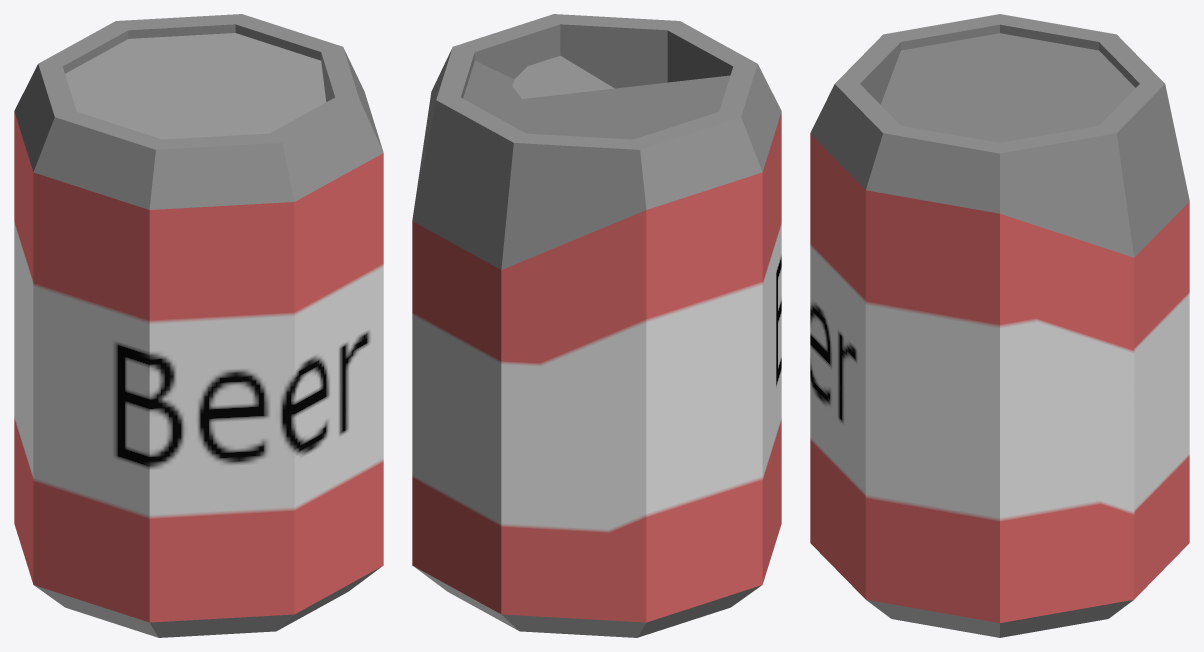
File: BeerCan.fbx
3 views of the same model, side by side, from view 1: azimuth 30°, elevation 25°; view 2: azimuth 150°, elevation 25°; view 3: azimuth 270°, elevation 25° (orthographic).
Visible parts, largest first — view 1: BeerCan; view 2: BeerCan; view 3: BeerCan.
Part boxes in pixels (bbox=[...]): BeerCan: bbox=[14, 14, 383, 637]; BeerCan: bbox=[412, 14, 781, 637]; BeerCan: bbox=[810, 14, 1189, 637].
Bounding box in the file's own units: 45.06 × 64.07 × 45.06.
